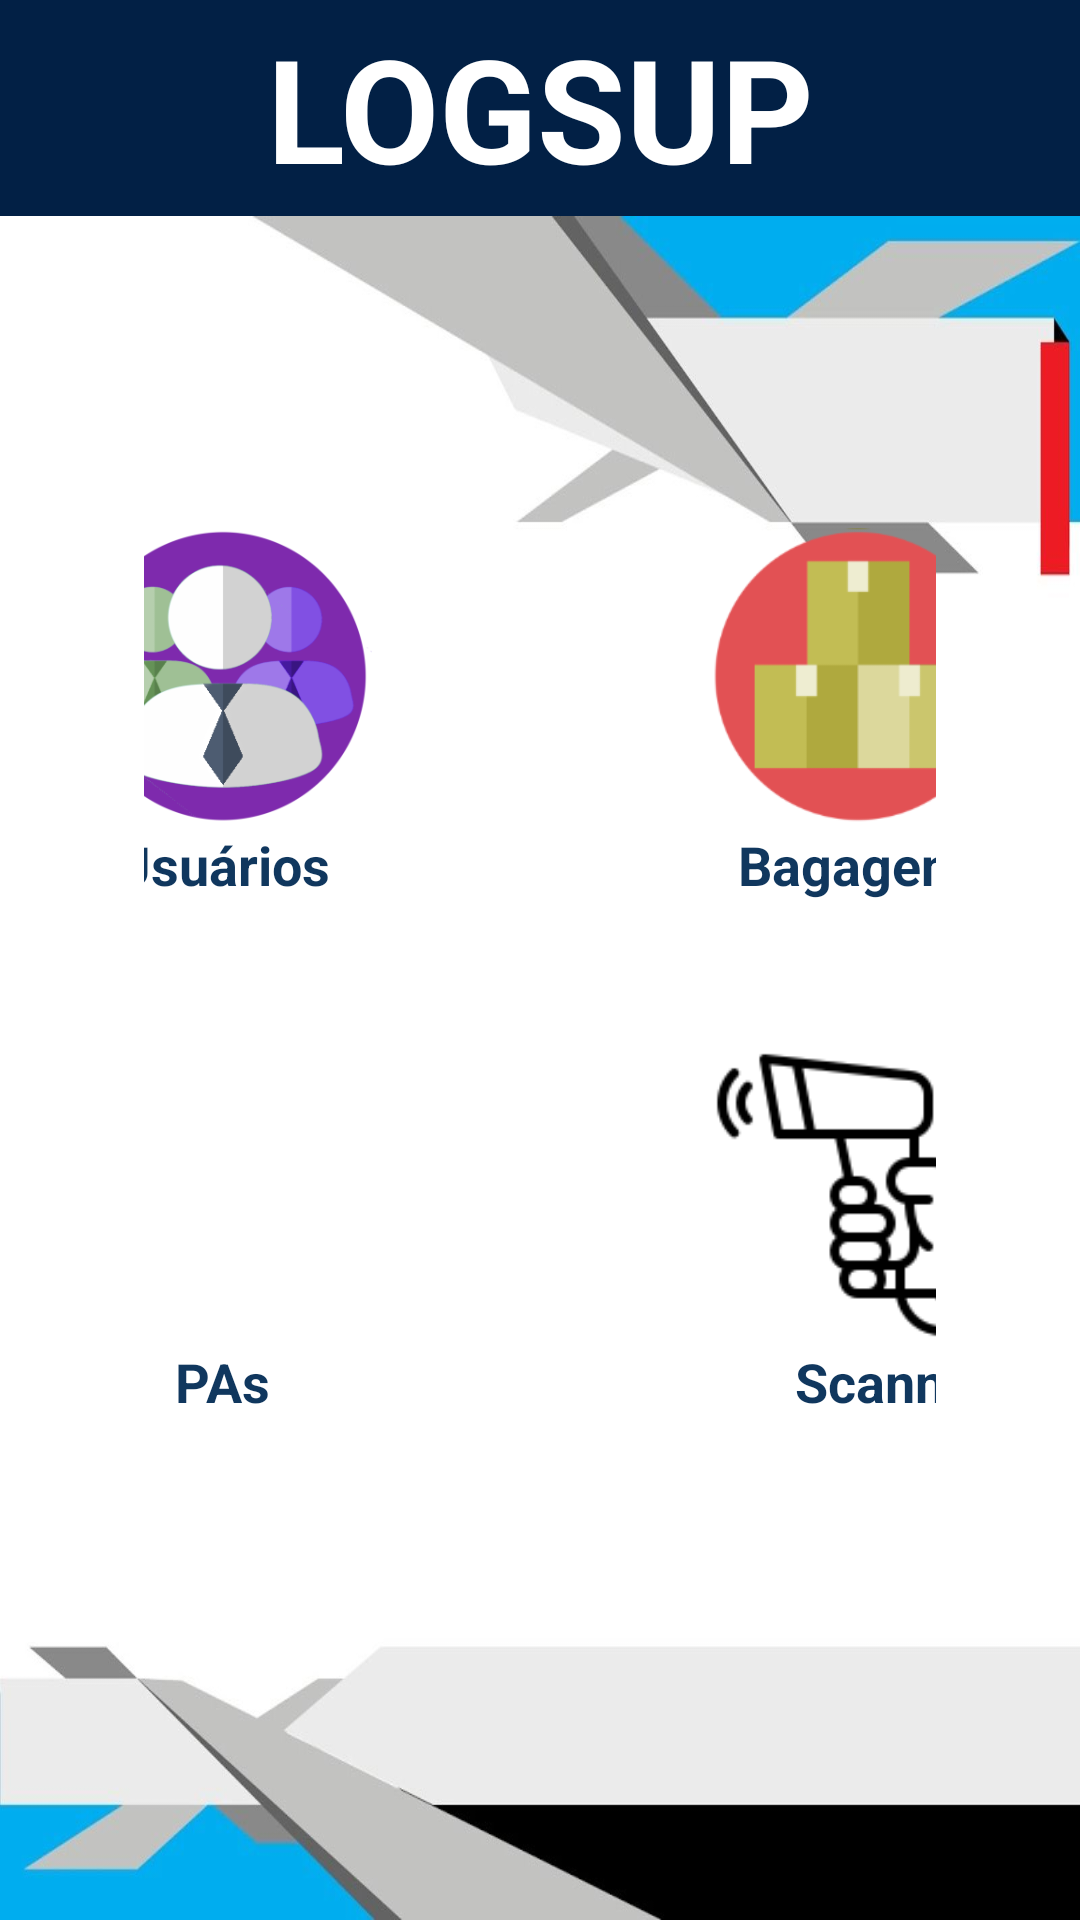

Icons on this 1080x1920 Android screen, each with the point to tap as (x=x, y=y):
barcode: (x=826, y=1194)
